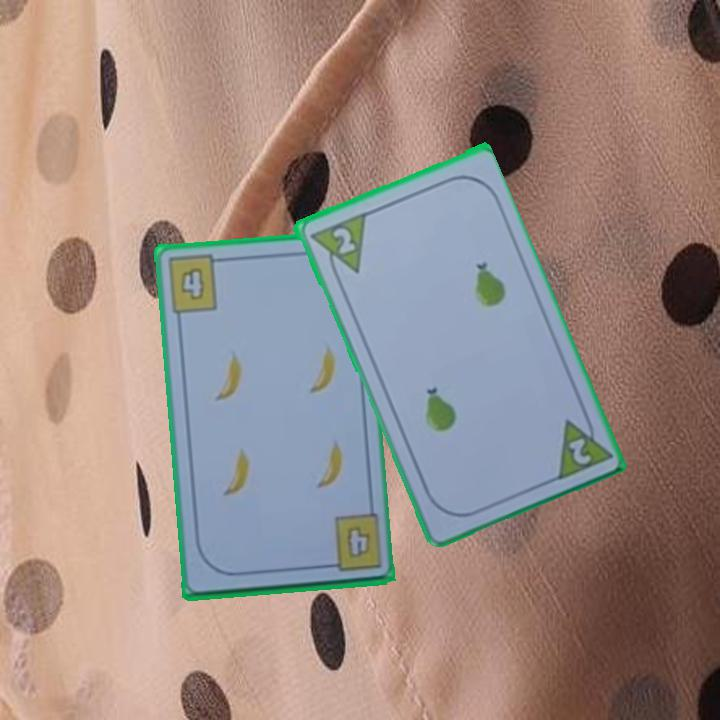2p: (305, 209, 369, 283), (564, 433, 594, 468)
4b: (163, 251, 227, 316), (342, 521, 373, 561)
